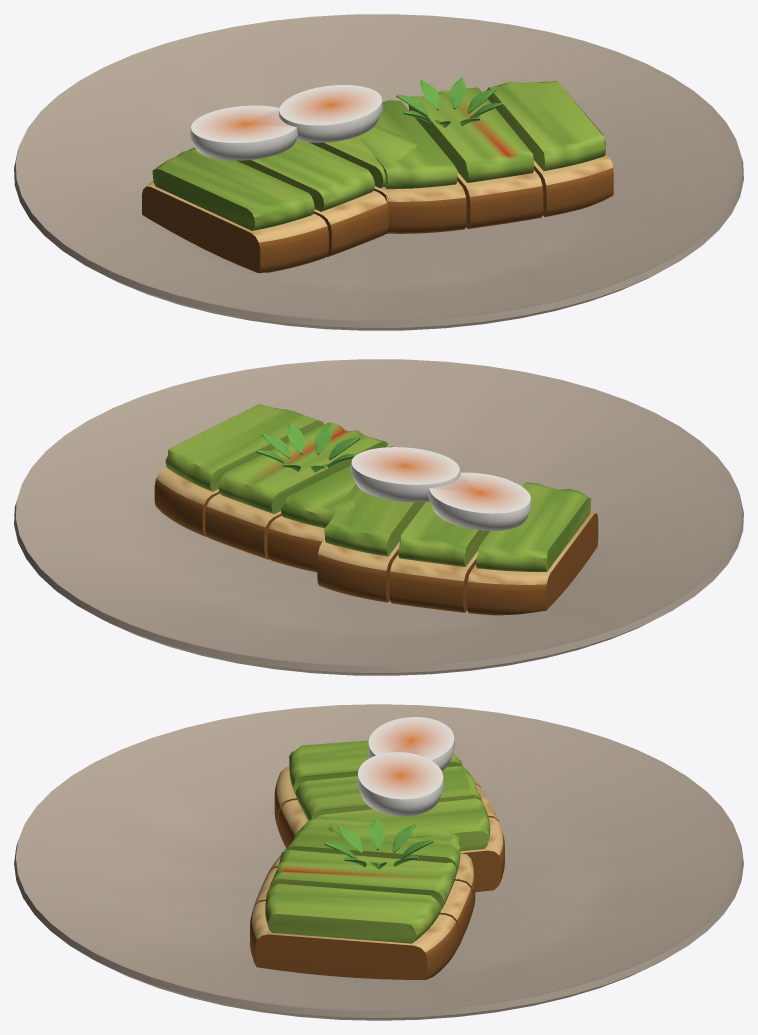
Rendered from dish-avocado-toast-lod0.glb.
3 renders of one model, top to bottom at view 1: azimuth 30°, elevation 25°; view 2: azimuth 150°, elevation 25°; view 3: azimuth 270°, elevation 25°, orthographic.
Parts seen in each view (by area): view 1: avocado-toast.lod0__table warm glaze, avocado-toast.lod0__food, avocado-toast.lod0__food glaze; view 2: avocado-toast.lod0__table warm glaze, avocado-toast.lod0__food, avocado-toast.lod0__food glaze; view 3: avocado-toast.lod0__table warm glaze, avocado-toast.lod0__food, avocado-toast.lod0__food glaze.
Boxes of the visible parts, x1,y1,x2,y2 form: avocado-toast.lod0__table warm glaze: (14,14,743,330); avocado-toast.lod0__food: (142,77,613,272); avocado-toast.lod0__food glaze: (190,85,382,160); avocado-toast.lod0__table warm glaze: (14,359,743,675); avocado-toast.lod0__food: (154,404,598,615); avocado-toast.lod0__food glaze: (350,447,531,530); avocado-toast.lod0__table warm glaze: (14,704,743,1020); avocado-toast.lod0__food: (250,740,504,979); avocado-toast.lod0__food glaze: (357,717,454,816).
Size of the model in its own units: 0.27 by 0.0495 by 0.27.
